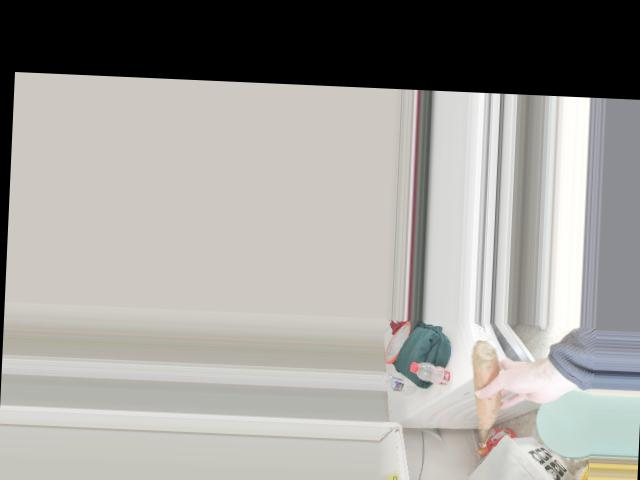sweet_potato: (477, 353, 501, 429)
